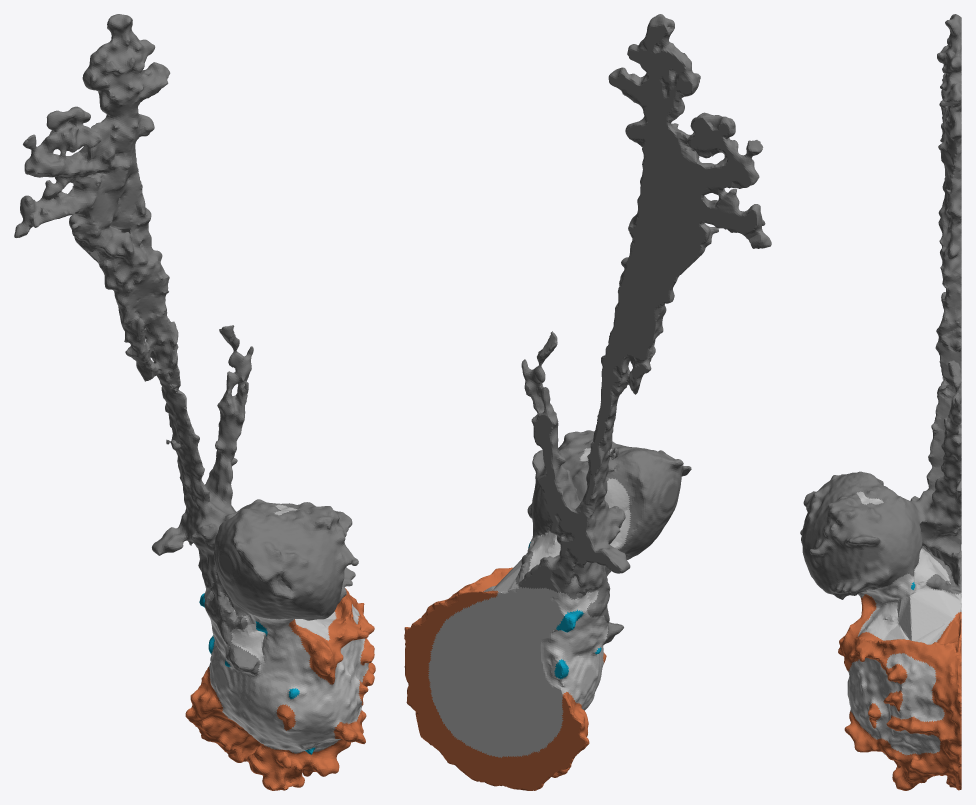
3 views of the same model, side by side, from view 1: azimuth 30°, elevation 25°; view 2: azimuth 150°, elevation 25°; view 3: azimuth 270°, elevation 25° (orthographic). The views are drawn at different scales.
Bounding box in the file's own units: 189 × 403 × 84.38.
